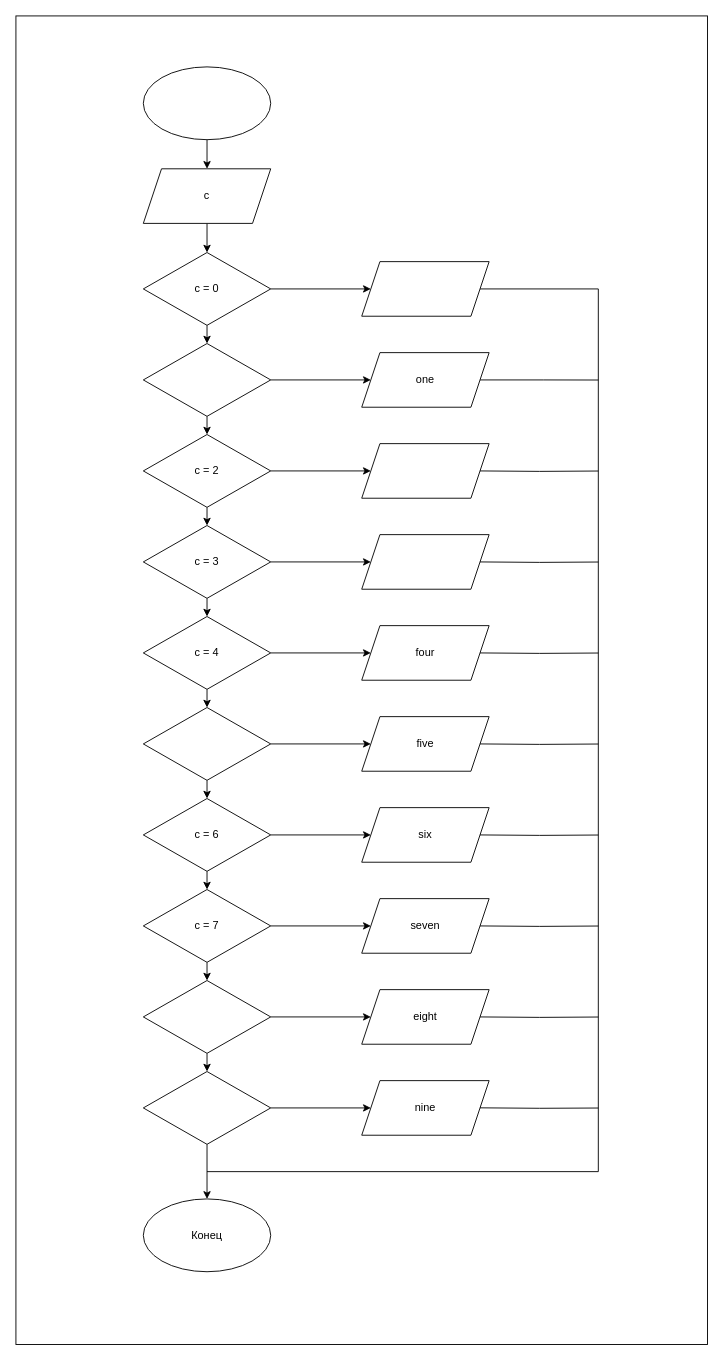
Some shapes in this 723 by 1360 pixel diagram are drawn without their labels. Each missing label, with the centre of its shape:
c = 1: [206,379]
c = 5: [206,743]
c = 8: [206,1016]
c = 9: [206,1107]
three: [425,561]
two: [425,470]
zero: [425,288]
Начало: [206,103]
